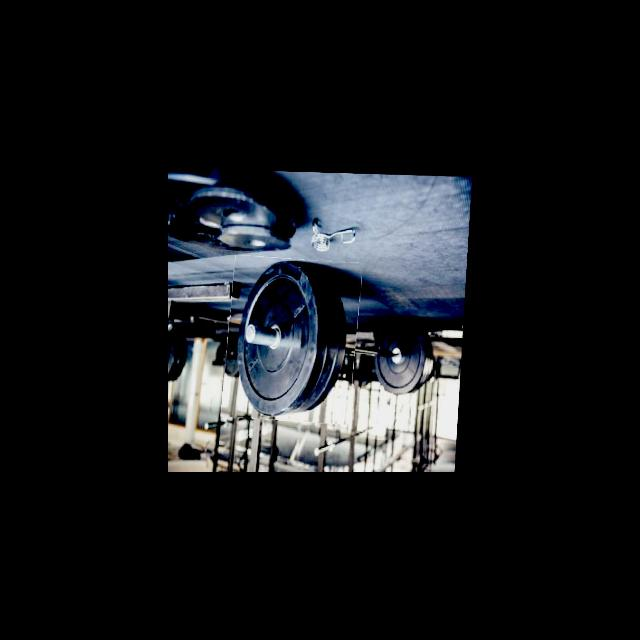barbell: (225, 255, 363, 422)
